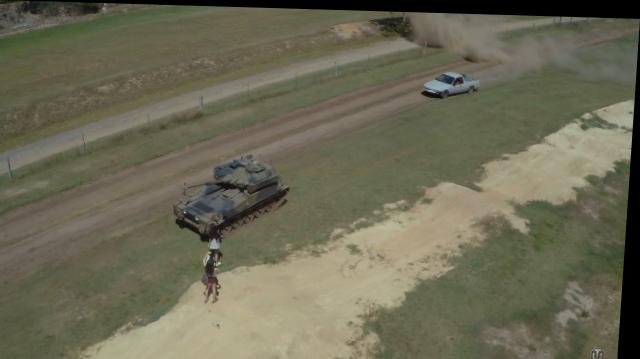other: (205, 256, 222, 303), (209, 223, 225, 256)
tank: (186, 183, 273, 225)
